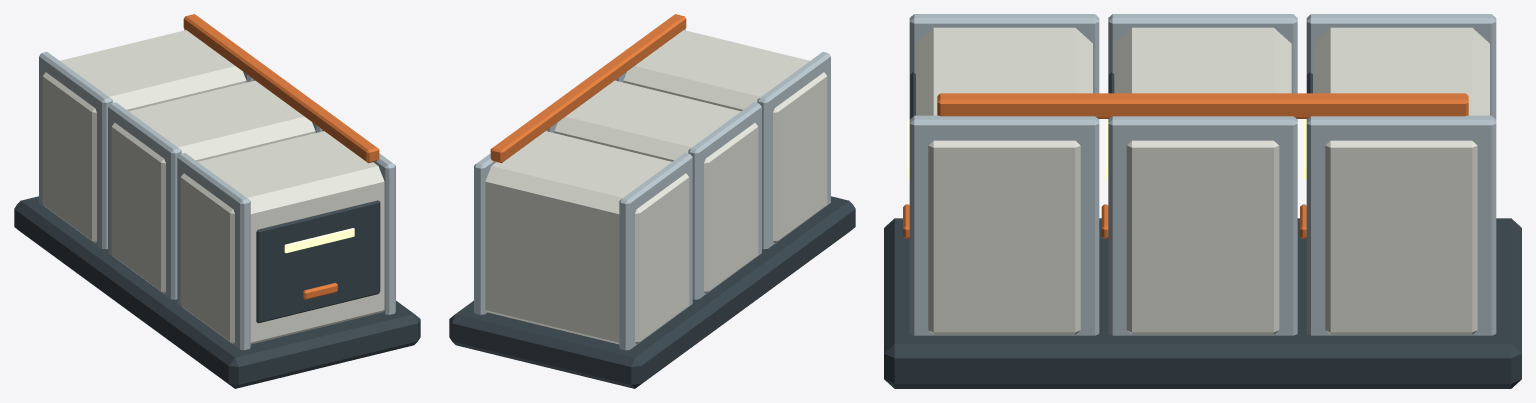
File: battery.glb
3 views of the same model, side by side, from view 1: azimuth 30°, elevation 25°; view 2: azimuth 150°, elevation 25°; view 3: azimuth 270°, elevation 25° (orthographic). The views are drawn at different scales.
Parts seen in each view (by area): view 1: battery_ivory.001, battery_dark.001, battery_metal.001, battery_orange.001, battery_light.001; view 2: battery_ivory.001, battery_dark.001, battery_metal.001, battery_orange.001; view 3: battery_ivory.001, battery_metal.001, battery_dark.001, battery_orange.001, battery_light.001.
Boxes of the visible parts, left/top/right/bottom form: battery_ivory.001: left=42, top=30, right=384, bottom=344; battery_dark.001: left=14, top=196, right=420, bottom=388; battery_metal.001: left=39, top=29, right=395, bottom=350; battery_orange.001: left=183, top=14, right=379, bottom=299; battery_light.001: left=284, top=228, right=354, bottom=253; battery_ivory.001: left=485, top=30, right=827, bottom=344; battery_dark.001: left=449, top=196, right=855, bottom=388; battery_metal.001: left=474, top=29, right=830, bottom=350; battery_orange.001: left=490, top=14, right=686, bottom=163; battery_ivory.001: left=916, top=27, right=1489, bottom=334; battery_metal.001: left=909, top=14, right=1496, bottom=335; battery_dark.001: left=884, top=72, right=1521, bottom=388; battery_orange.001: left=903, top=93, right=1468, bottom=238; battery_light.001: left=907, top=119, right=1306, bottom=179.
Size of the model in its own units: 1.8 by 1.71 by 3.6.
